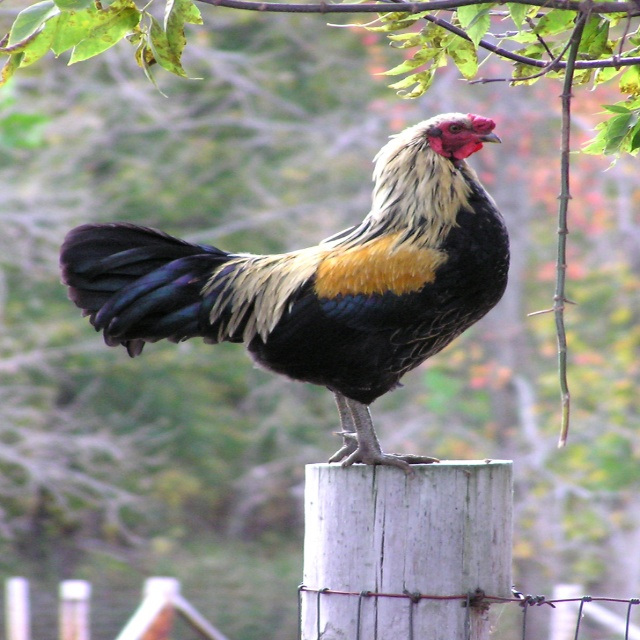Chicken: (62, 120, 503, 474)
